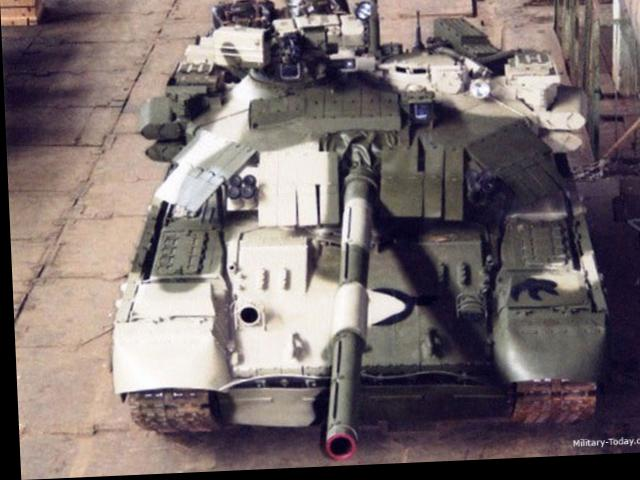tank: (106, 0, 616, 444)
